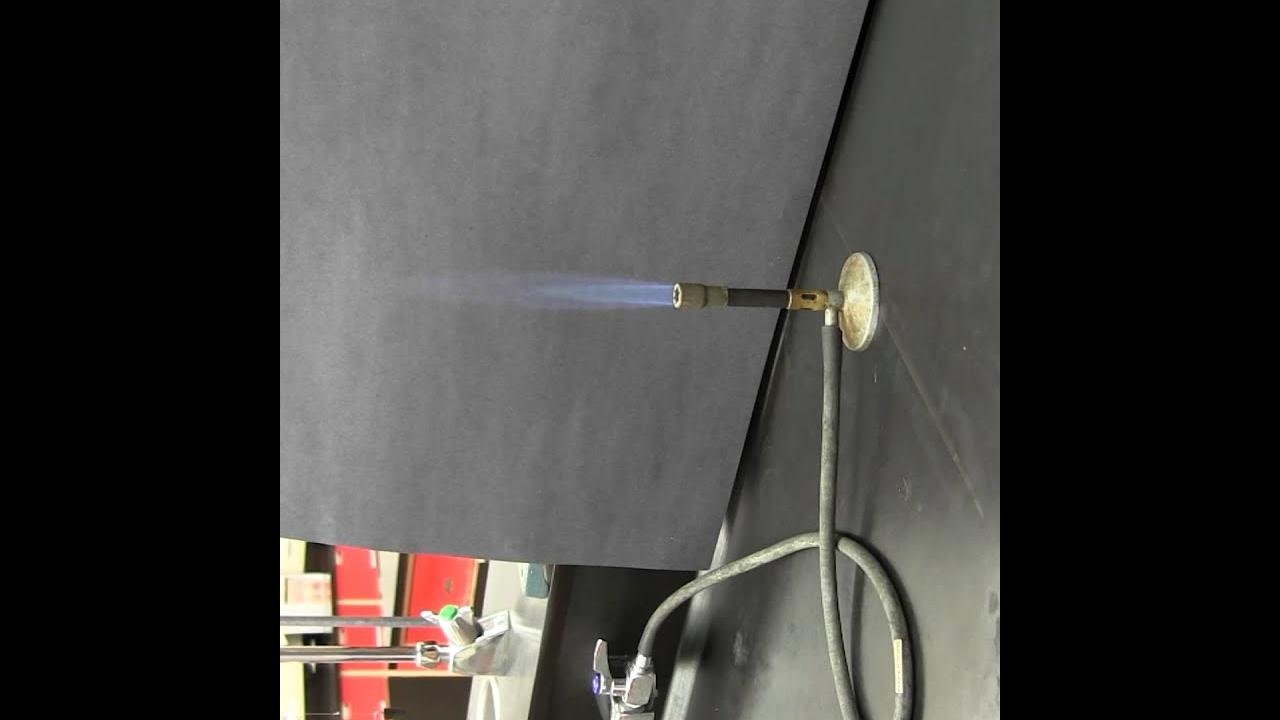controlled_fire: (434, 232, 808, 354)
